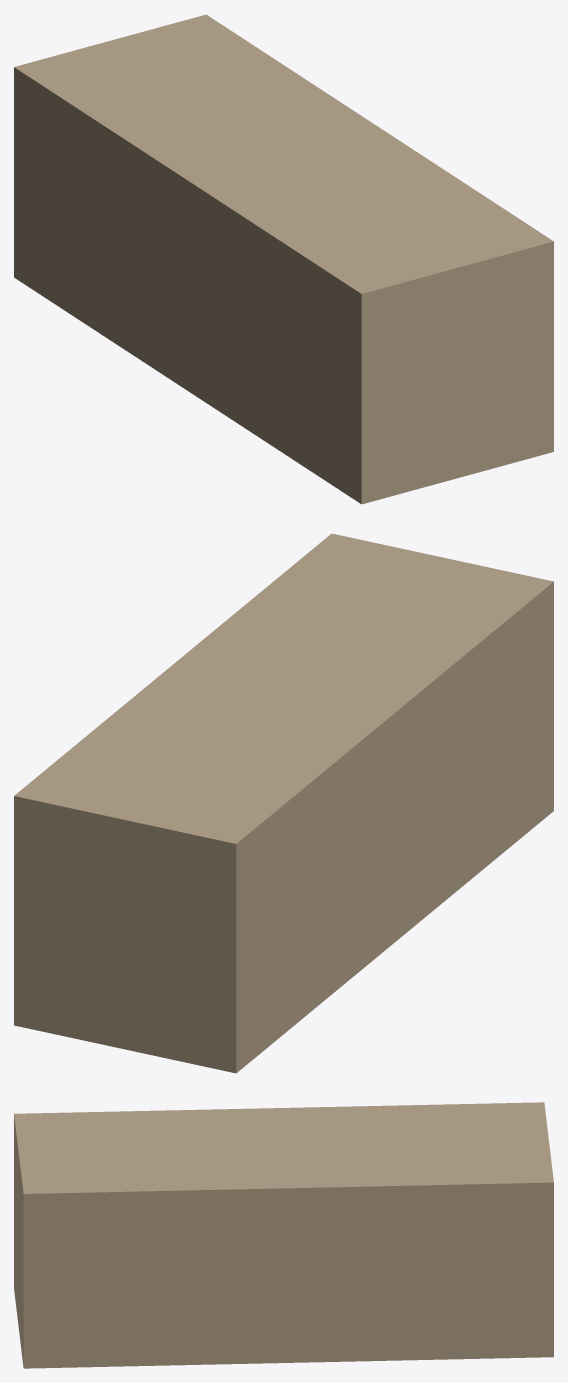
File: bld_99858684.dae
3 views of the same model, one above another, from view 1: azimuth 30°, elevation 25°; view 2: azimuth 150°, elevation 25°; view 3: azimuth 270°, elevation 25° (orthographic). The views are drawn at different scales.
Parts seen in each view (by area): view 1: bld_99858684; view 2: bld_99858684; view 3: bld_99858684.
Boxes of the visible parts, x1=… form: bld_99858684: x1=14, y1=14, x2=553, y2=504; bld_99858684: x1=14, y1=533, x2=553, y2=1073; bld_99858684: x1=14, y1=1102, x2=553, y2=1368.
Bounding box in the file's own units: 9 × 22.42 × 8.
